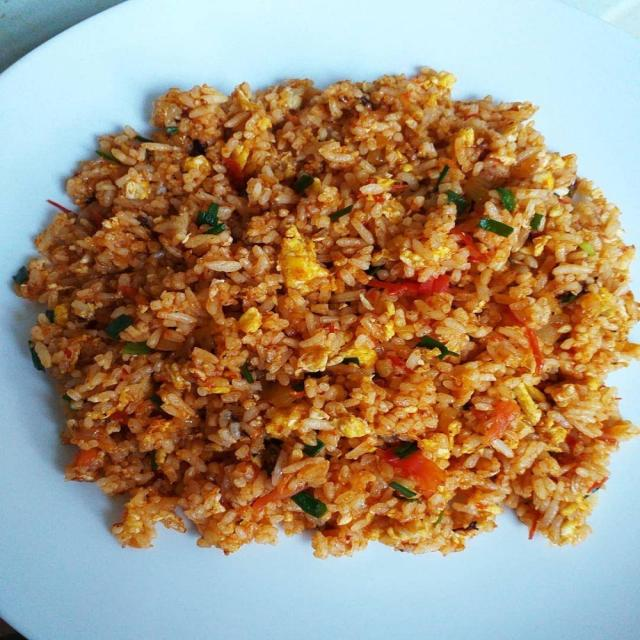Nasi Goreng: (13, 66, 638, 559)
